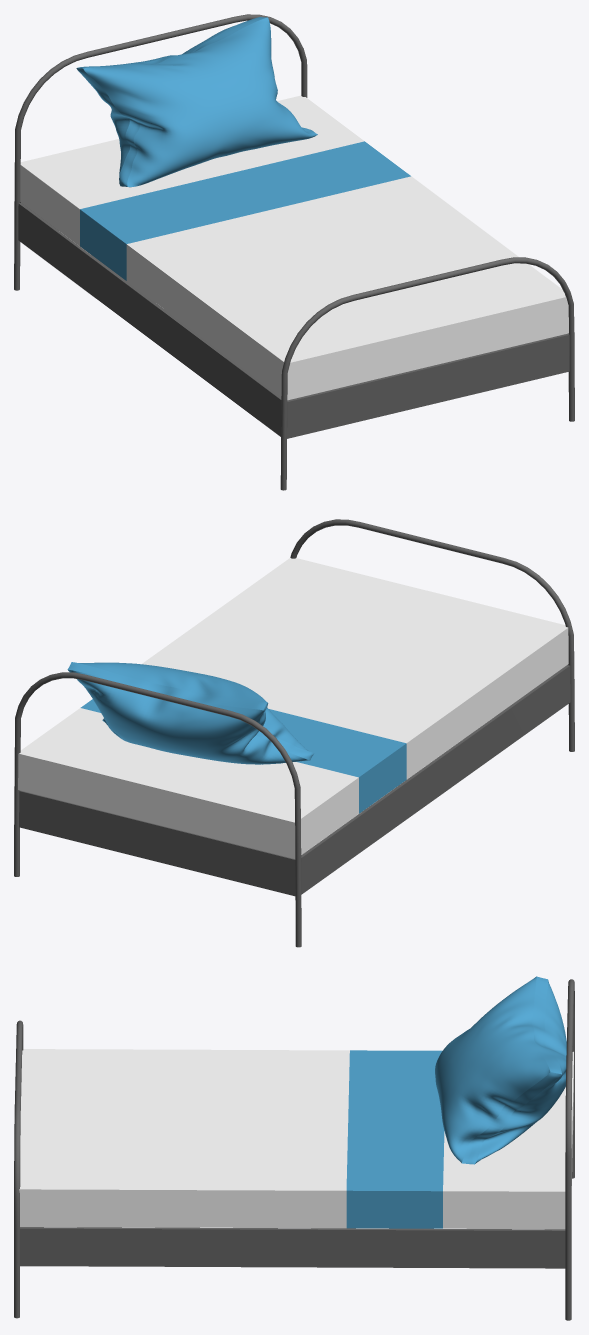
Rendered from lozko.FBX.
3 views of the same model, one above another, from view 1: azimuth 30°, elevation 25°; view 2: azimuth 150°, elevation 25°; view 3: azimuth 270°, elevation 25° (orthographic). The views are drawn at different scales.
Visible parts, largest first — view 1: Box001, Cylinder002, poducha3; view 2: Box001, Cylinder002, poducha3; view 3: Box001, Cylinder002, poducha3.
Part boxes in pixels (left/top/right/bottom): Box001: left=20, top=95, right=568, bottom=400; Cylinder002: left=14, top=14, right=574, bottom=490; poducha3: left=76, top=17, right=317, bottom=187; Box001: left=18, top=558, right=568, bottom=858; Cylinder002: left=14, top=519, right=574, bottom=947; poducha3: left=67, top=662, right=314, bottom=764; Box001: left=19, top=1049, right=573, bottom=1229; Cylinder002: left=14, top=979, right=574, bottom=1320; poducha3: left=435, top=976, right=566, bottom=1164.
Size of the model in its own units: 125 by 89.45 by 202.
